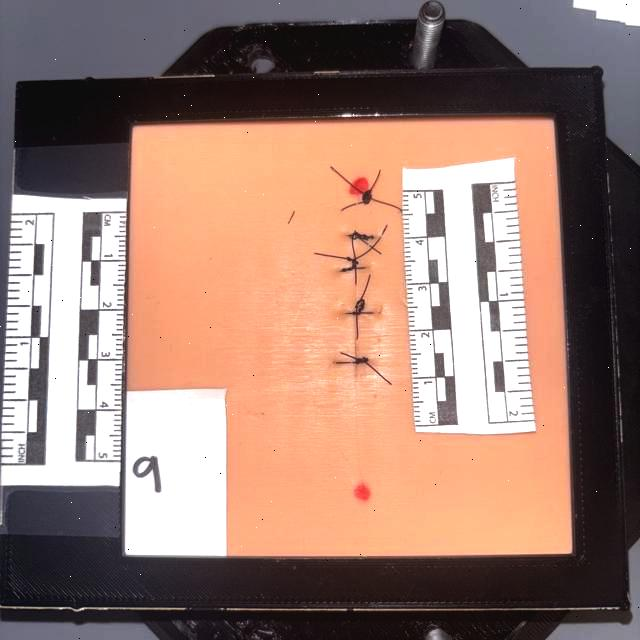incision_line: (354, 190, 362, 493)
scale_marker: (410, 331, 430, 378)
suture_d: (340, 314, 350, 362), (342, 272, 350, 314), (348, 237, 354, 269), (348, 206, 354, 236)
suture_l: (339, 201, 357, 211), (338, 357, 354, 367), (347, 310, 358, 316), (344, 265, 354, 271), (350, 234, 358, 240)
suture_r: (357, 310, 375, 316), (356, 198, 368, 206), (354, 357, 364, 365), (358, 236, 372, 240), (356, 266, 366, 270)
